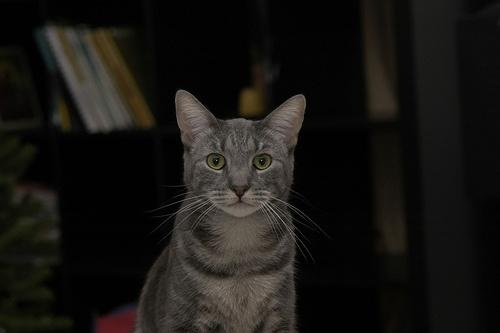cat: (135, 93, 310, 332)
